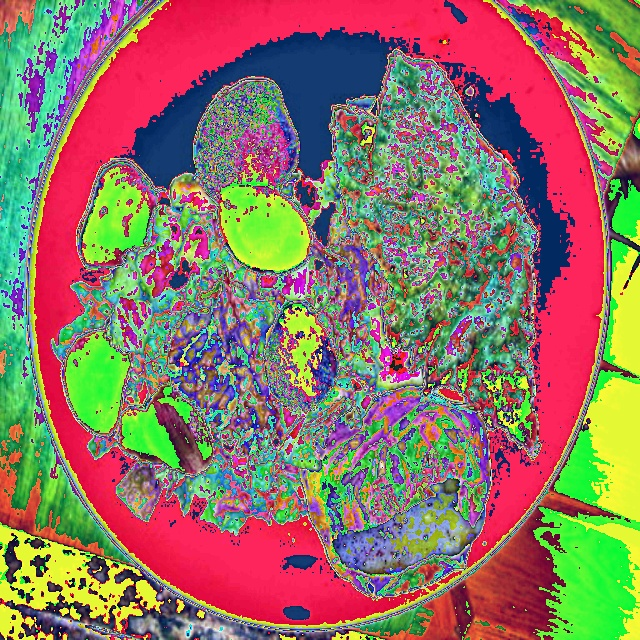background: (50, 49, 541, 599)
